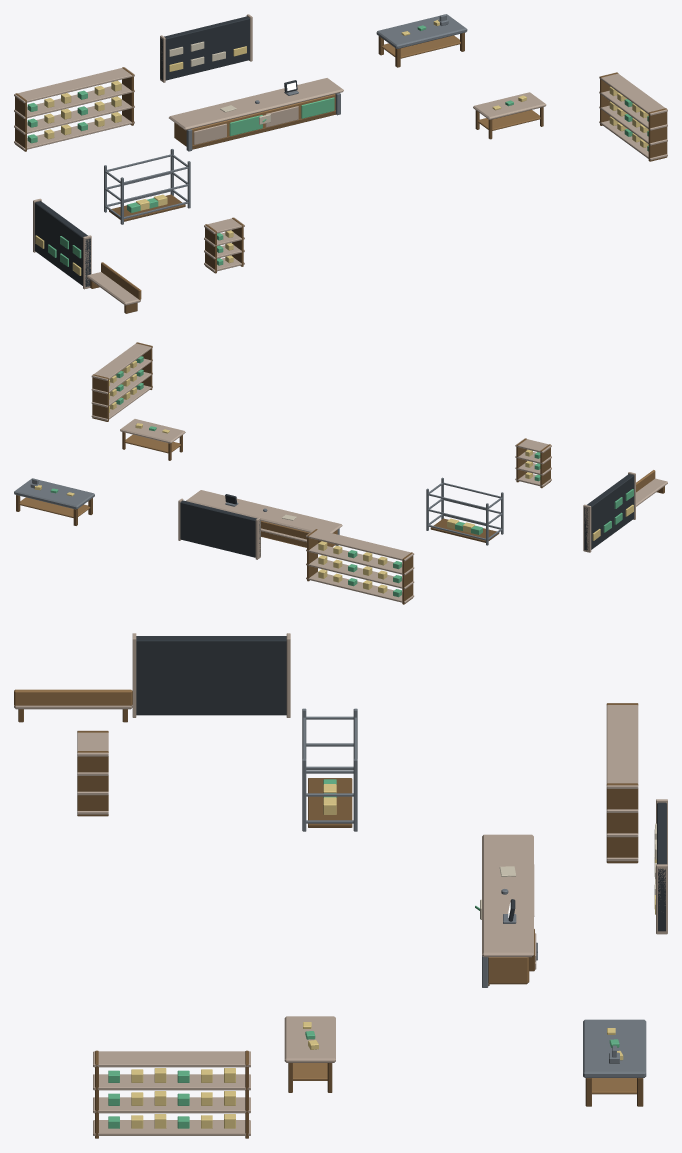
The model's file is stampspur_courier_office.glb.
The picture shows the model from 3 angles, top to bottom: view 1: azimuth 30°, elevation 25°; view 2: azimuth 150°, elevation 25°; view 3: azimuth 270°, elevation 25°; orthographic projection. The views are drawn at different scales.
Size of the model in its own units: 25.72 by 2.82 by 16.55.
